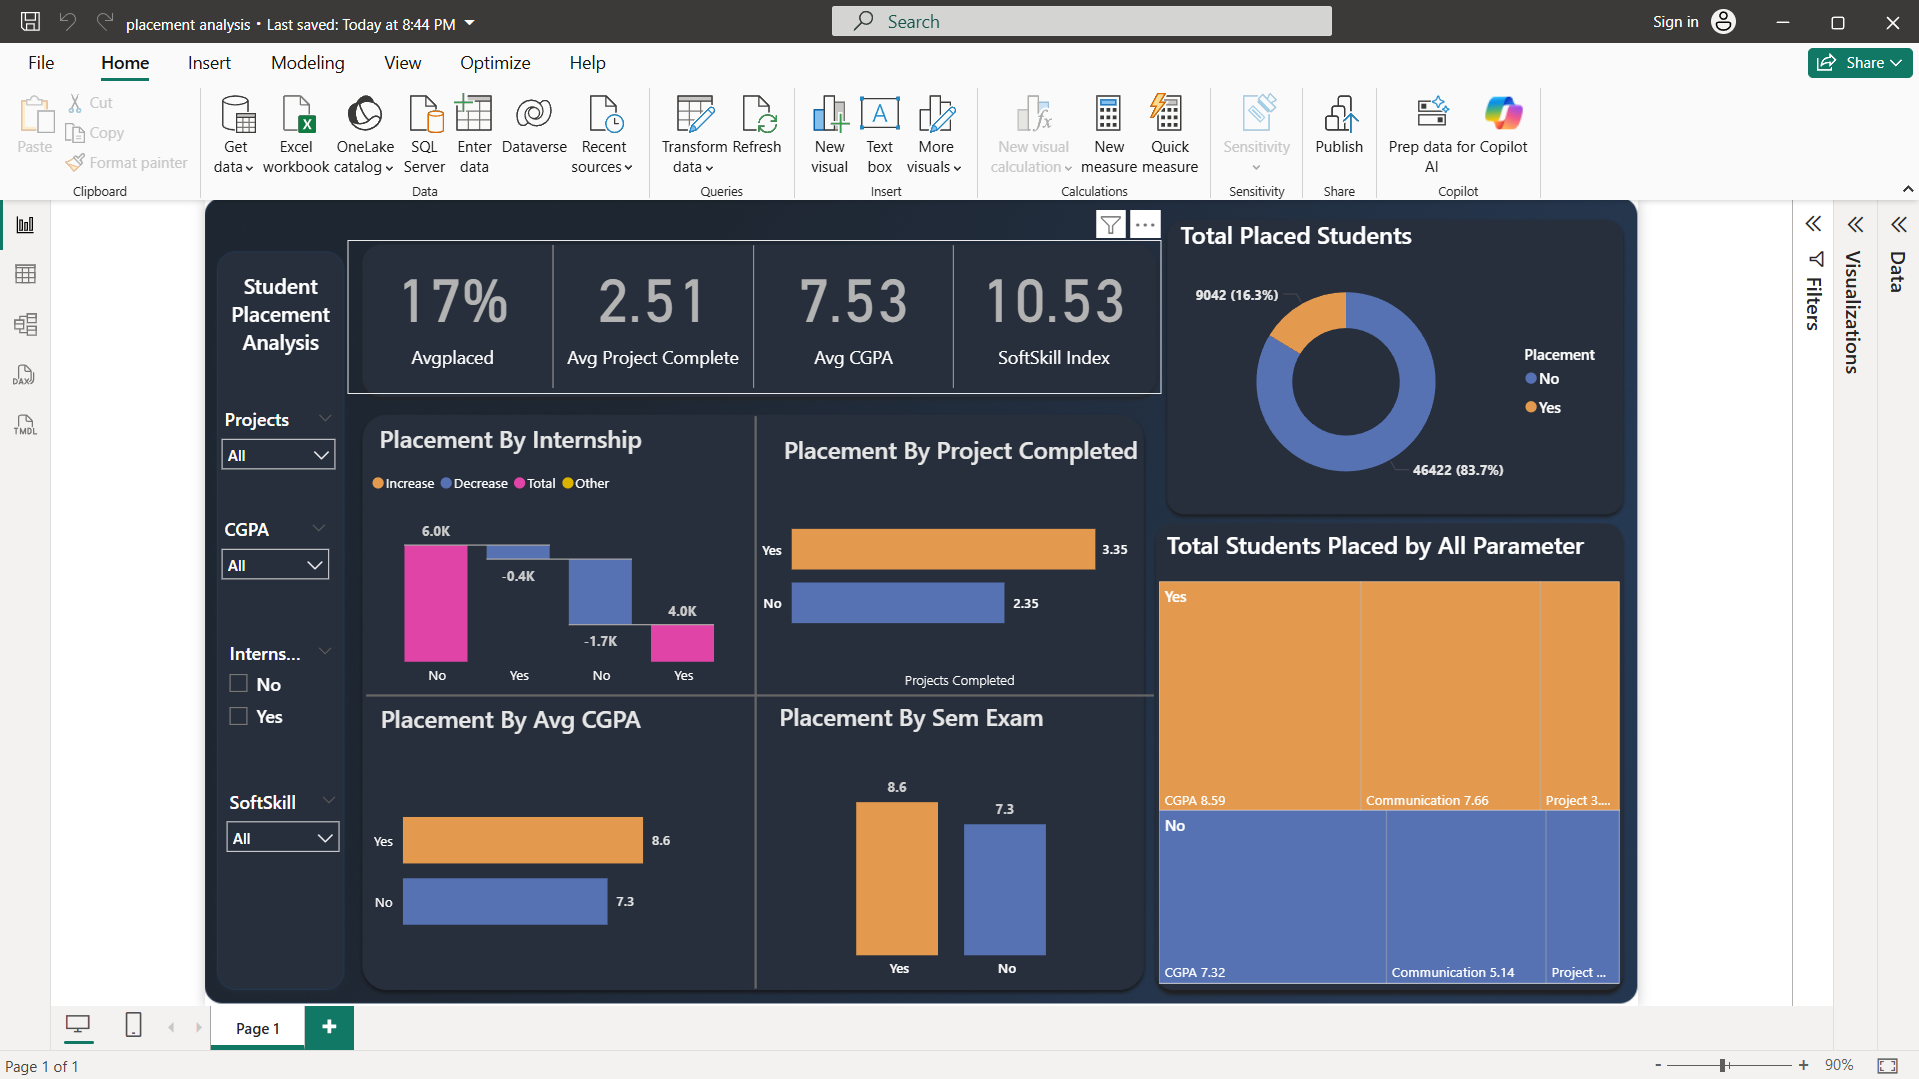

This screenshot's page, from the dashboard's own definition file:
{"tool":"powerbi","page":{"name":"Page 1","canvas":[1280,720],"ordinal":0},"visuals":[{"type":"cardVisual","fields":{"Data":["placementData.Avgplaced","Avg(placementData.Projects_Completed)","Avg(placementData.CGPA)","Avg(placementData.SoftSkill)"]},"box":[126.7,36,727.9,137.2],"z":0},{"type":"donutChart","fields":{"Category":["placementData.Placement"],"Y":["Sum(placementData.Academic_Performance)"]},"box":[854.9,49.2,414.3,226.9],"z":1000},{"type":"shape","box":[144.1,437.1,703.6,12],"z":2000},{"type":"shape","box":[475.5,193.3,32.4,511.5],"z":3000},{"type":"barChart","fields":{"Category":["placementData.Placement"],"Y":["Avg(placementData.CGPA)"]},"box":[144.2,489.5,347.7,215.1],"z":4000},{"type":"columnChart","fields":{"Y":["Avg(placementData.Prev_Sem_Result)"],"Category":["placementData.Placement"]},"box":[490.7,500,357,204.7],"z":5000},{"type":"barChart","fields":{"Category":["placementData.Placement"],"Y":["Avg(placementData.Projects_Completed)"]},"box":[491.9,238.4,338.4,203.5],"z":6000},{"type":"waterfallChart","fields":{"Category":["placementData.Internship_Experience"],"Y":["CountNonNull(placementData.Placement)"],"Breakdown":["placementData.Placement"]},"box":[144.2,233.7,347.7,209.3],"z":7000},{"type":"treemap","fields":{"Values":["Avg(placementData.CGPA)","Avg(placementData.Projects_Completed)","Avg(placementData.Communication_Skills)"],"Group":["placementData.Placement"]},"box":[847.7,336,420.9,368.6],"z":8000},{"type":"textbox","box":[9.3,59.3,117.4,114],"z":9000},{"type":"textbox","box":[144.2,443,258.1,47.7],"z":10000},{"type":"textbox","box":[144.2,193,258.1,47.7],"z":11000},{"type":"textbox","box":[866.3,11.6,219.8,47.7],"z":12000},{"type":"textbox","box":[508.1,441.9,257,47.7],"z":13000},{"type":"textbox","box":[501.9,203,347.7,47.7],"z":14000},{"type":"textbox","box":[854.7,288.4,414,47.7],"z":15000},{"type":"slicer","fields":{"Values":["placementData.Projects_Completed"]},"box":[4.7,180.2,122.1,74.4],"z":15001},{"type":"slicer","fields":{"Values":["placementData.CGPA"]},"box":[4.7,277.9,116.3,69.8],"z":15002},{"type":"slicer","fields":{"Values":["placementData.Internship_Experience"]},"box":[9.3,388.4,117.4,96.5],"z":15003},{"type":"slicer","fields":{"Values":["placementData.SoftSkill"]},"box":[9.3,520.9,120.9,75.6],"z":15004}]}

Visuals, with their boxes on the page's 1280x720 design canvas (x1, y1, x2, y2). These are canvas units, not pixel positions in the 1919x1079 screenshot, which may show the page scaled, cropped or inside an application window:
cardVisual - placementData.Avgplaced x Avg(placementData.Projects_Completed): 127 36 855 173
donutChart - placementData.Placement x Sum(placementData.Academic_Performance): 855 49 1269 276
shape: 144 437 848 449
shape: 476 193 508 705
barChart - placementData.Placement x Avg(placementData.CGPA): 144 490 492 705
columnChart - Avg(placementData.Prev_Sem_Result) x placementData.Placement: 491 500 848 705
barChart - placementData.Placement x Avg(placementData.Projects_Completed): 492 238 830 442
waterfallChart - placementData.Internship_Experience x CountNonNull(placementData.Placement): 144 234 492 443
treemap - Avg(placementData.CGPA) x Avg(placementData.Projects_Completed): 848 336 1269 705
textbox: 9 59 127 173
textbox: 144 443 402 491
textbox: 144 193 402 241
textbox: 866 12 1086 59
textbox: 508 442 765 490
textbox: 502 203 850 251
textbox: 855 288 1269 336
slicer - placementData.Projects_Completed: 5 180 127 255
slicer - placementData.CGPA: 5 278 121 348
slicer - placementData.Internship_Experience: 9 388 127 485
slicer - placementData.SoftSkill: 9 521 130 596
